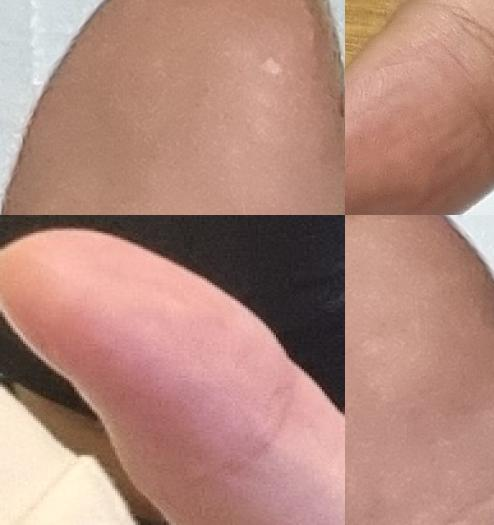Fingerprints: (0, 0, 345, 215), (0, 230, 288, 477), (345, 215, 494, 525), (345, 2, 494, 215)
